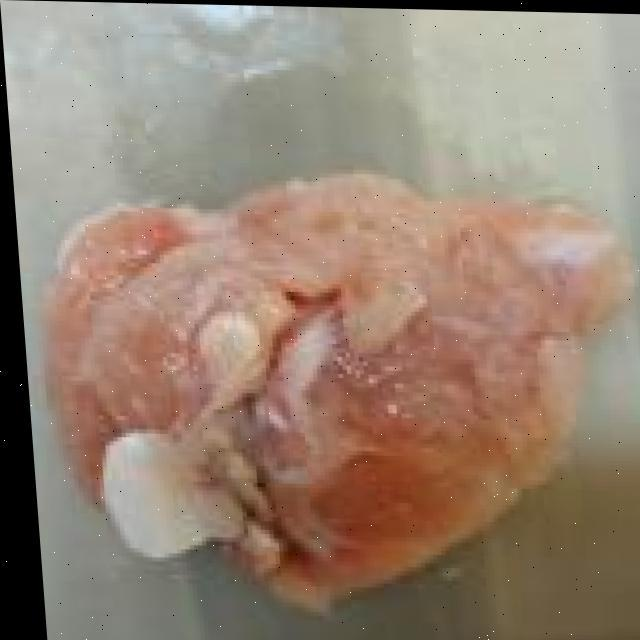breast: (48, 160, 640, 594)
